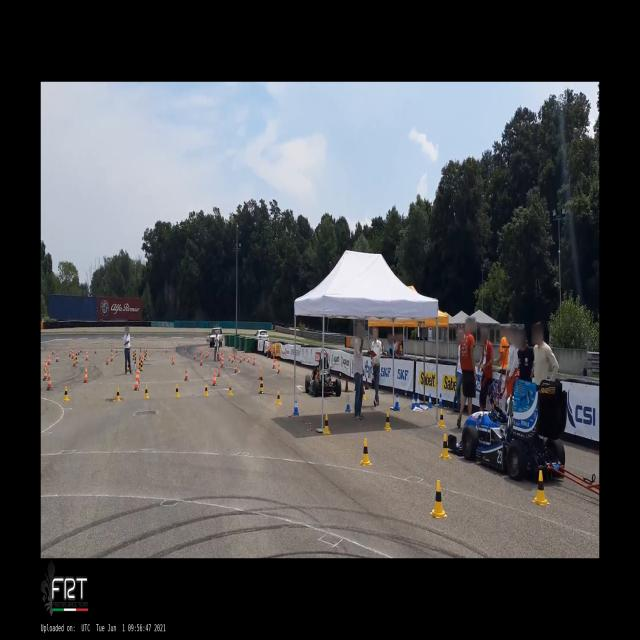blue_cone: (345, 396, 351, 412), (293, 398, 299, 414), (394, 394, 399, 411), (428, 394, 433, 408), (438, 393, 443, 406), (411, 394, 415, 410), (416, 394, 419, 408)
large_orange_cone: (46, 371, 54, 391), (83, 366, 89, 383), (212, 369, 218, 386), (134, 371, 139, 391), (183, 366, 190, 380), (43, 364, 48, 382), (216, 365, 222, 377), (43, 357, 48, 370), (137, 366, 140, 384)
unknown_cone: (258, 376, 266, 394), (345, 378, 349, 392), (364, 378, 369, 389)
yellow_cone: (430, 480, 448, 518), (532, 470, 550, 506), (439, 433, 452, 459), (360, 439, 372, 466), (383, 411, 393, 432), (437, 409, 447, 429), (323, 414, 331, 435), (63, 386, 70, 402), (275, 391, 282, 405), (174, 384, 180, 397), (204, 383, 209, 397), (144, 385, 149, 399), (228, 383, 233, 396), (363, 387, 367, 400), (116, 388, 120, 401)
